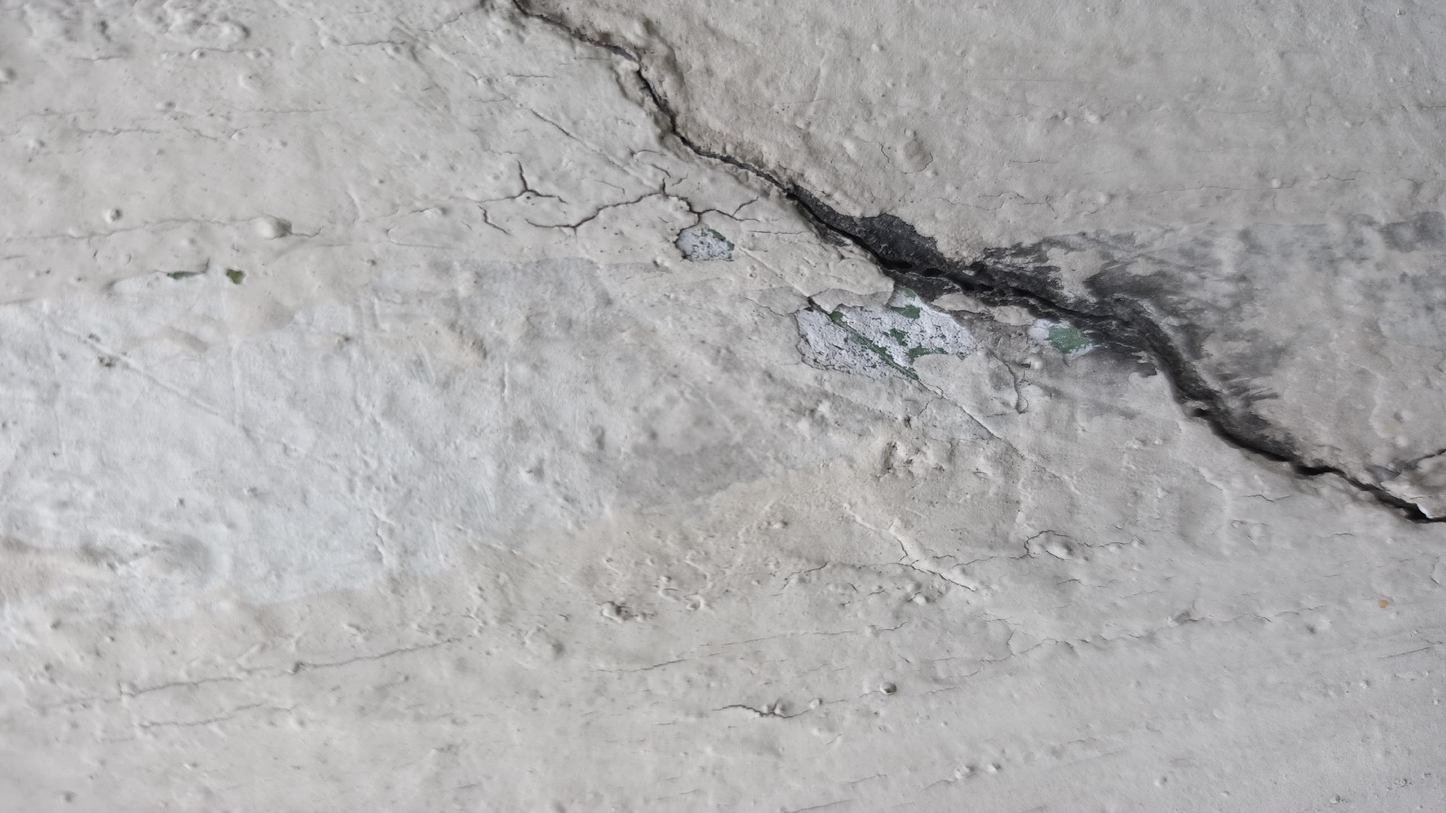crack: (509, 1, 1437, 526)
